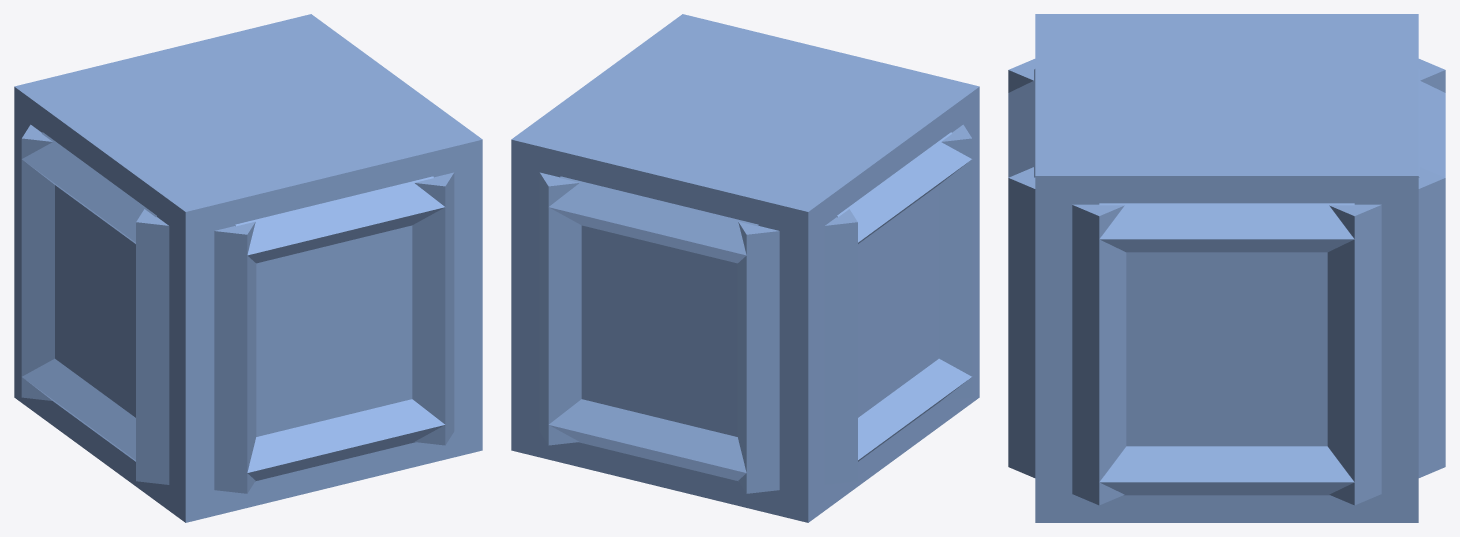
File: building2.fbx
3 renders of one model, left to right at view 1: azimuth 30°, elevation 25°; view 2: azimuth 150°, elevation 25°; view 3: azimuth 270°, elevation 25°, orthographic. The views are drawn at different scales.
Visible parts, largest first — view 1: Block; view 2: Block; view 3: Block.
Boxes of the visible parts, <box> form: Block: <box>14,14,482,522</box>; Block: <box>511,14,979,522</box>; Block: <box>1008,14,1445,522</box>.
Size of the model in its own units: 6.85 by 6.85 by 6.
